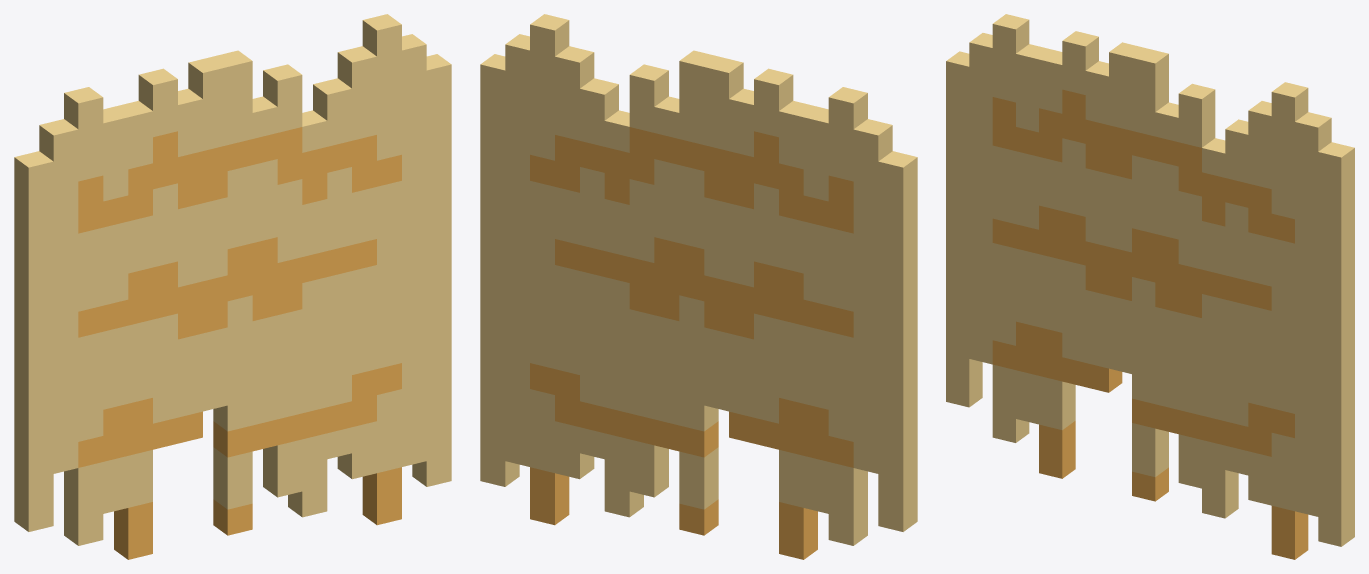
File: PaperScrapTorn.obj
3 renders of one model, left to right at view 1: azimuth 30°, elevation 25°; view 2: azimuth 150°, elevation 25°; view 3: azimuth 330°, elevation 25°, orthographic. The views are drawn at different scales.
Parts seen in each view (by area): view 1: PaperScrapTorn; view 2: PaperScrapTorn; view 3: PaperScrapTorn.
Boxes of the visible parts, x1=… form: PaperScrapTorn: x1=14, y1=14, x2=451, y2=559; PaperScrapTorn: x1=480, y1=14, x2=917, y2=559; PaperScrapTorn: x1=946, y1=14, x2=1354, y2=559.
Size of the model in its own units: 17 by 19 by 1.
Materials: 1 (1 with a texture image).
